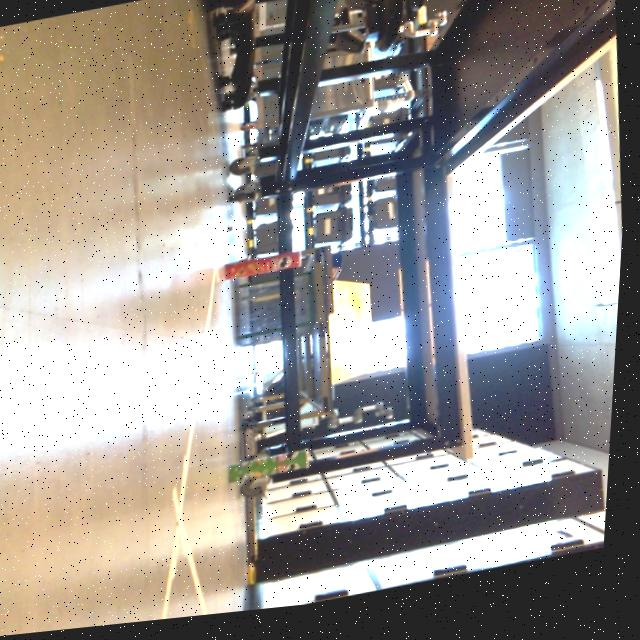greenpringles: (222, 441, 337, 501)
redpringles: (210, 241, 331, 295)
